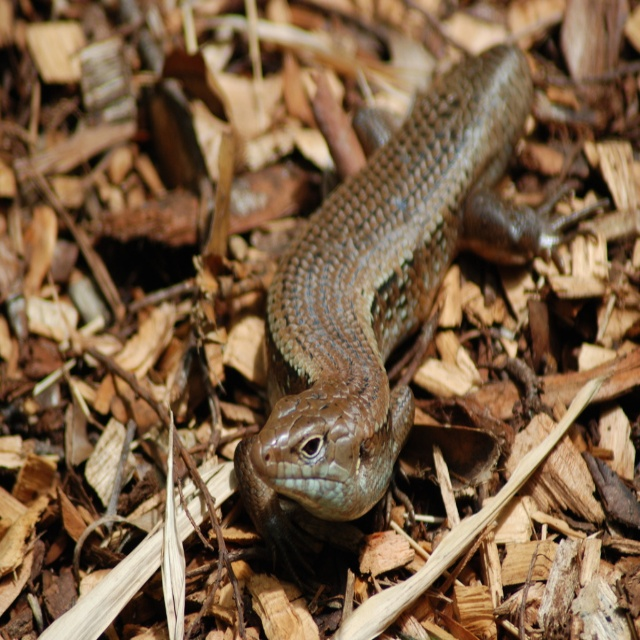Lizard: (232, 42, 640, 590)
